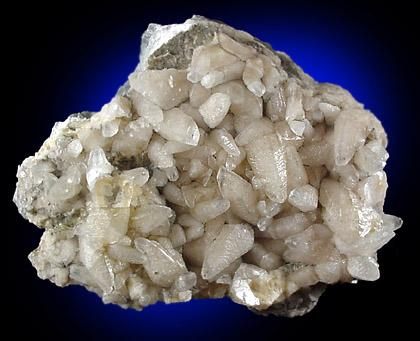calcite: (13, 23, 403, 312)
